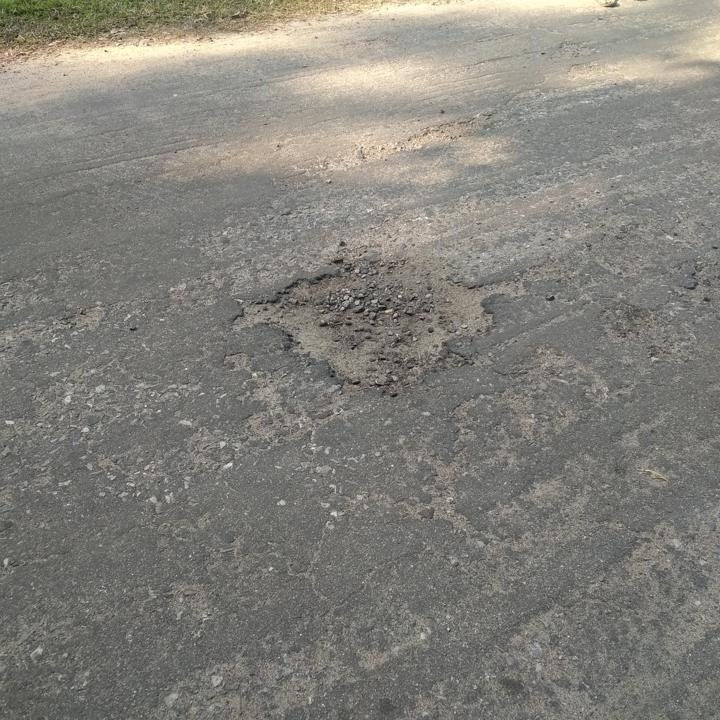pothole: (225, 251, 528, 390)
